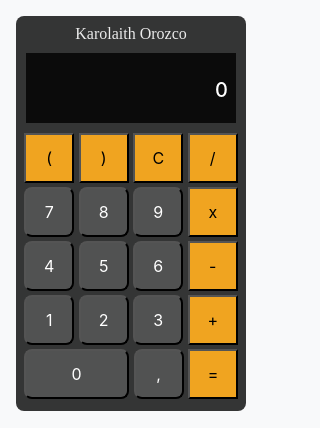
Test: test the calculator operation › sum of negative numbers
Click the button with id "btnSub" at (213, 266), box [188,241,238,291]
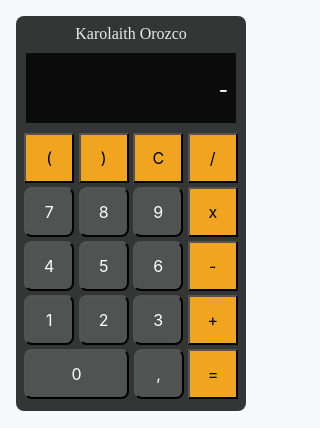
Click the button with id "btn6" at (158, 266), box [133,241,183,291]
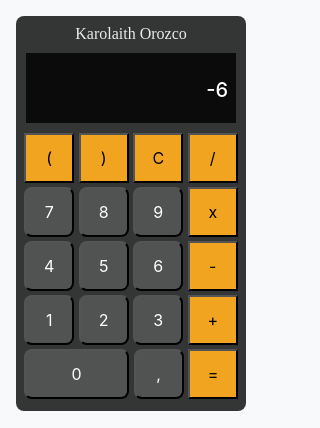
Click the button with id "btnSum" at (213, 320), box [188,295,238,345]
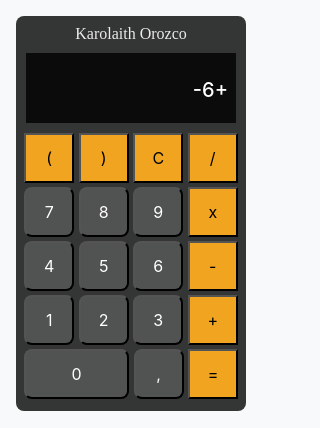
Click the button with id "btnSub" at (213, 266), box [188,241,238,291]
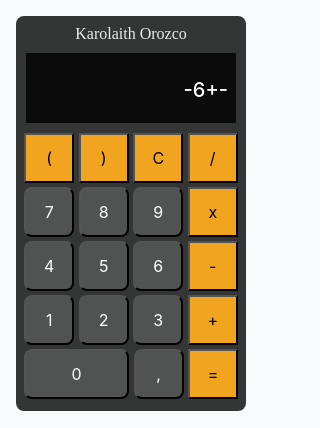
Click the button with id "btn7" at (49, 212), box [24,187,74,237]
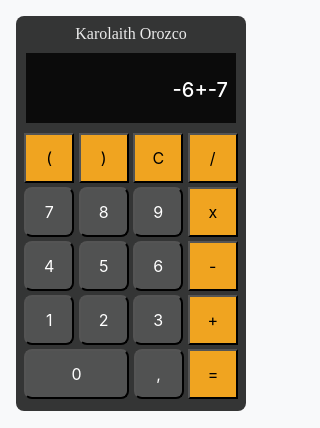
Click the button with id "btnEql" at (213, 374), box [188,349,238,399]
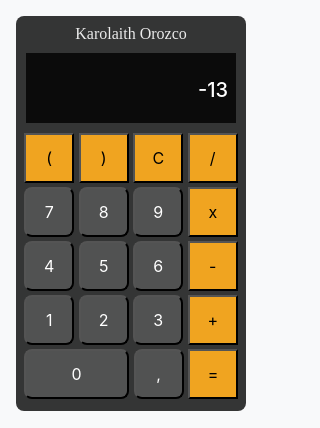
Expected: the heading with id "textview" reads "-13", [198,78,228,102]
